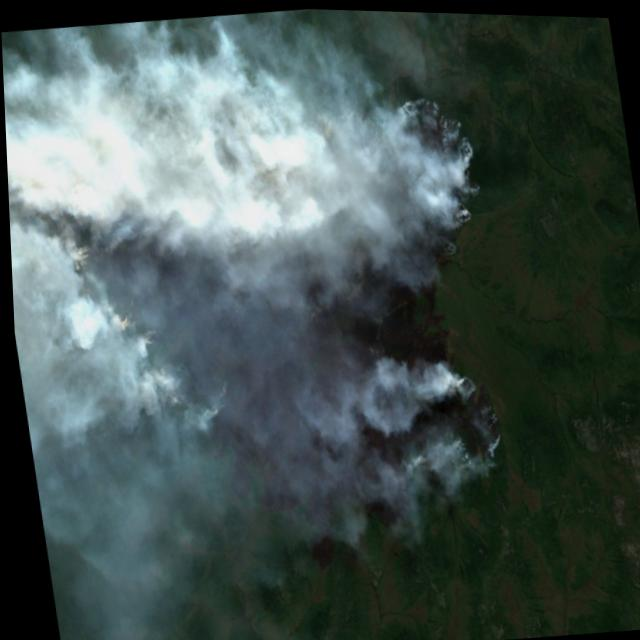fire: (49, 73, 523, 512)
